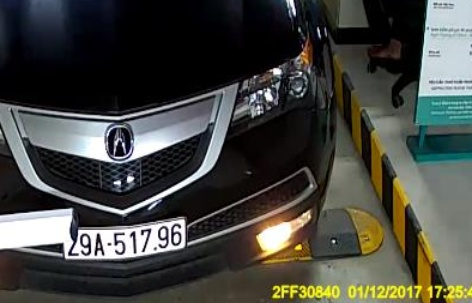plate: (60, 216, 187, 262)
